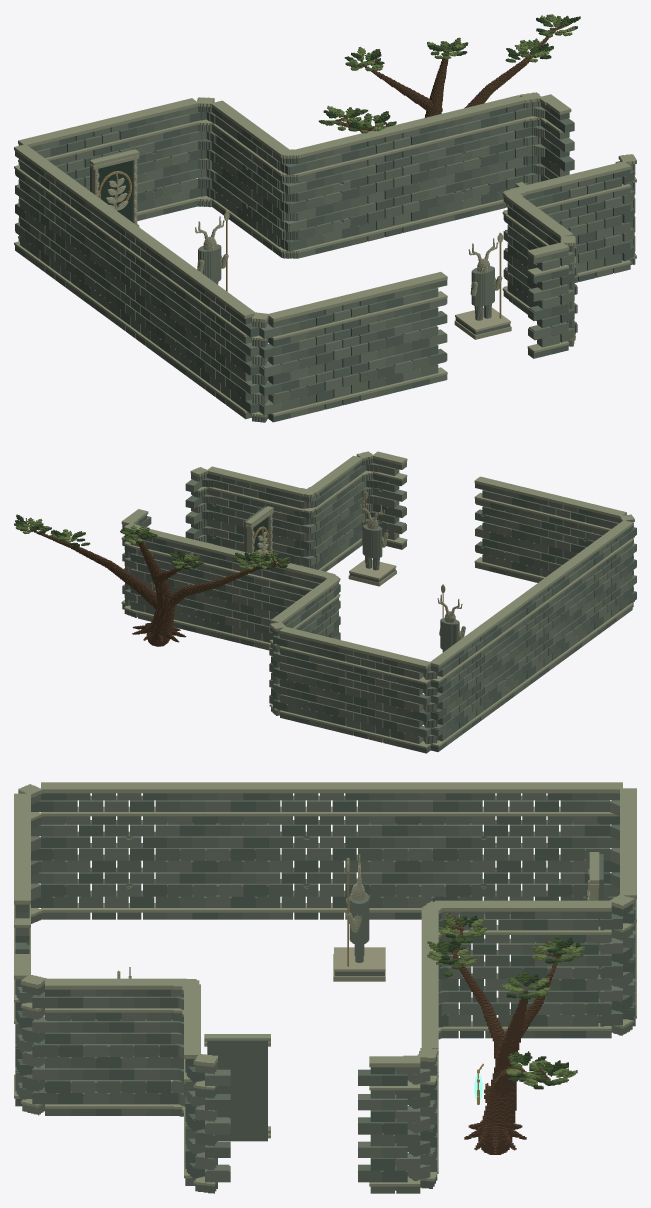
3 renders of one model, top to bottom at view 1: azimuth 30°, elevation 25°; view 2: azimuth 150°, elevation 25°; view 3: azimuth 270°, elevation 25°, orthographic. The views are drawn at different scales.
Parts seen in each view (by area): view 1: CarvedMasonry_-2_2_00, CarvedMasonry_1_-1_00, CarvedMasonry_0_-1_00, CarvedMasonry_-1_-2_00, CarvedMasonry_-3_-2_00, CarvedMasonry_-3_1_00, CarvedMasonry_-1_-3_00, CarvedMasonry_-3_-1_00, CarvedMasonry_-3_0_00, CarvedMasonry_-1_2_00, CarvedMasonry_1_0_00, CarvedMasonry_-1_-1_00 (+11 smaller); view 2: CarvedMasonry_-2_-3_00, CarvedMasonry_1_-1_00, CarvedMasonry_-2_2_00, CarvedMasonry_1_0_00, CarvedMasonry_-3_-2_00, CarvedMasonry_0_-1_00, CarvedMasonry_0_1_00, CarvedMasonry_-3_-1_00, CarvedMasonry_-3_1_00, CarvedMasonry_-1_-3_00, CarvedMasonry_-3_0_00, CarvedMasonry_-1_2_00 (+12 smaller); view 3: CarvedMasonry_0_1_00, CarvedMasonry_-3_1_00, CarvedMasonry_-3_0_00, CarvedMasonry_-3_-1_00, CarvedMasonry_-1_-2_00, CarvedMasonry_-3_-2_00, CarvedMasonry_2_-1_00, CarvedMasonry_2_0_00, Heartwood_00, Canopy_00, Heraldry_06_00, CarvedMasonry_0_2_00 (+12 smaller).
Part boxes in pixels (bbox=[...]): CarvedMasonry_-2_2_00: bbox=[280, 284, 395, 417]; CarvedMasonry_1_-1_00: bbox=[410, 95, 525, 228]; CarvedMasonry_0_-1_00: bbox=[310, 120, 420, 254]; CarvedMasonry_-1_-2_00: bbox=[206, 100, 282, 250]; CarvedMasonry_-3_-2_00: bbox=[14, 144, 84, 293]; CarvedMasonry_-3_1_00: bbox=[184, 269, 255, 419]; CarvedMasonry_-1_-3_00: bbox=[140, 97, 214, 218]; CarvedMasonry_-3_-1_00: bbox=[74, 188, 145, 338]; CarvedMasonry_-3_0_00: bbox=[130, 232, 195, 374]; CarvedMasonry_-1_2_00: bbox=[385, 272, 447, 392]; CarvedMasonry_1_0_00: bbox=[503, 165, 613, 288]; CarvedMasonry_-1_-1_00: bbox=[267, 144, 324, 258]; CarvedMasonry_-2_-3_00: bbox=[316, 637, 416, 749]; CarvedMasonry_1_-1_00: bbox=[136, 527, 233, 639]; CarvedMasonry_-2_2_00: bbox=[519, 487, 614, 582]; CarvedMasonry_1_0_00: bbox=[221, 470, 315, 568]; CarvedMasonry_-3_-2_00: bbox=[430, 625, 492, 751]; CarvedMasonry_0_-1_00: bbox=[225, 548, 317, 650]; CarvedMasonry_0_1_00: bbox=[302, 455, 366, 571]; CarvedMasonry_-3_-1_00: bbox=[480, 588, 540, 714]; CarvedMasonry_-3_1_00: bbox=[573, 520, 633, 646]; CarvedMasonry_-1_-3_00: bbox=[269, 622, 328, 728]; CarvedMasonry_-3_0_00: bbox=[531, 557, 586, 677]; CarvedMasonry_-1_2_00: bbox=[474, 476, 527, 578]; CarvedMasonry_0_1_00: bbox=[32, 978, 196, 1116]; CarvedMasonry_-3_1_00: bbox=[41, 782, 192, 919]; CarvedMasonry_-3_0_00: bbox=[179, 782, 330, 919]; CarvedMasonry_-3_-1_00: bbox=[318, 782, 471, 919]; CarvedMasonry_-1_-2_00: bbox=[460, 900, 622, 1038]; CarvedMasonry_-3_-2_00: bbox=[458, 782, 622, 919]; CarvedMasonry_2_-1_00: bbox=[358, 1047, 438, 1193]; CarvedMasonry_2_0_00: bbox=[184, 1044, 230, 1193]; Heartwood_00: bbox=[448, 912, 560, 1154]; Canopy_00: bbox=[427, 913, 584, 1089]; Heraldry_06_00: bbox=[204, 1034, 270, 1141]; CarvedMasonry_0_2_00: bbox=[14, 954, 46, 1115].
Bounding box in the file's own units: 32.94 × 8.28 × 26.4.
